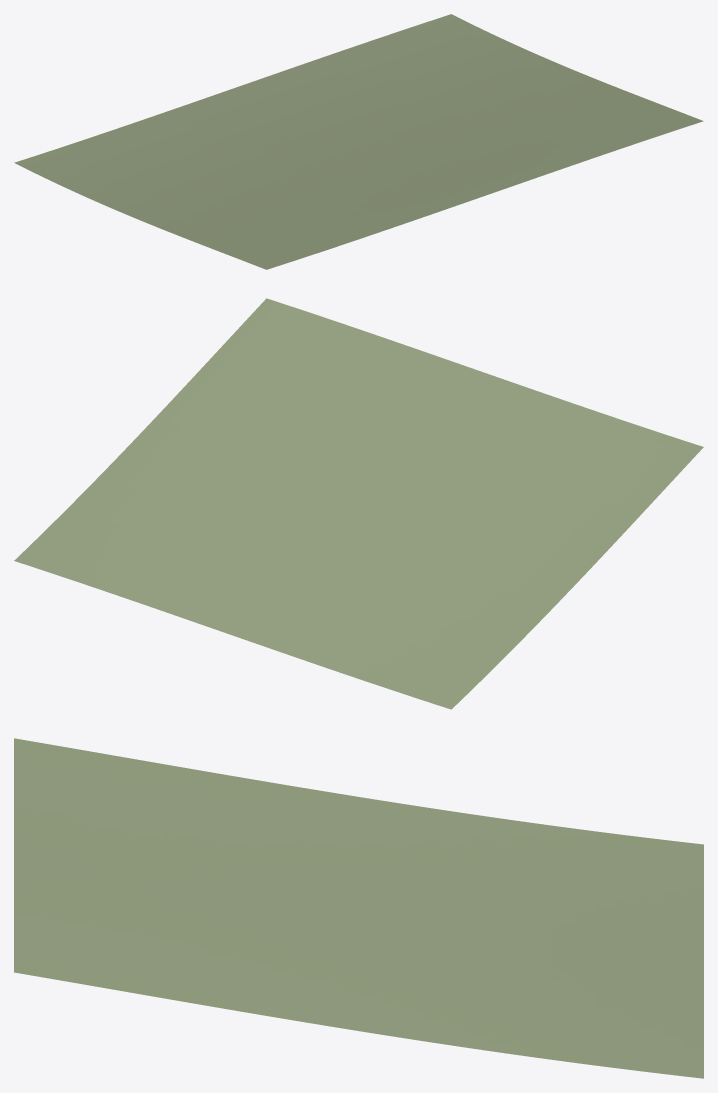
File: valley-5-13.glb
3 views of the same model, one above another, from view 1: azimuth 30°, elevation 25°; view 2: azimuth 150°, elevation 25°; view 3: azimuth 270°, elevation 25° (orthographic). The views are drawn at different scales.
Visible parts, largest first — view 1: valley-5-13; view 2: valley-5-13; view 3: valley-5-13.
Boxes of the visible parts, x1,y1,x2,y2 form: valley-5-13: (14, 14, 703, 269); valley-5-13: (14, 298, 703, 709); valley-5-13: (14, 738, 703, 1078).
Size of the model in its own units: 256 by 66.97 by 256.
